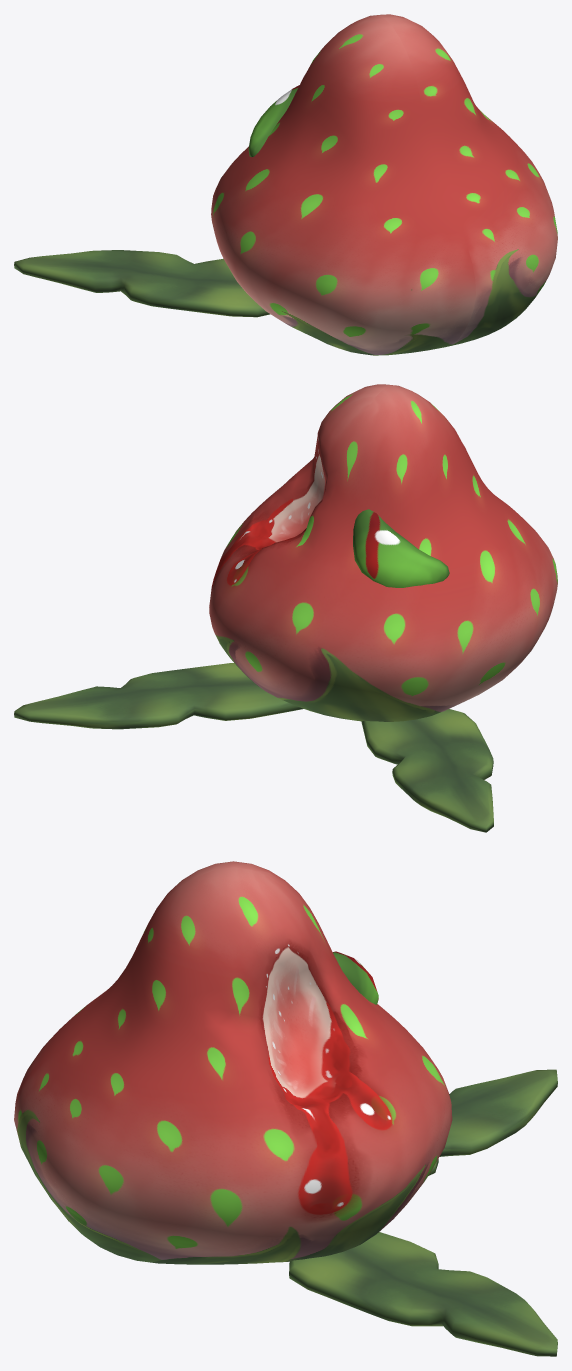
The model's file is strawberry.fbx.
3 renders of one model, top to bottom at view 1: azimuth 30°, elevation 25°; view 2: azimuth 150°, elevation 25°; view 3: azimuth 270°, elevation 25°, orthographic. The views are drawn at different scales.
Parts seen in each view (by area): view 1: StrawberryBody1; view 2: StrawberryBody1; view 3: StrawberryBody1.
Part boxes in pixels (x1=…): StrawberryBody1: x1=14, y1=14, x2=557, y2=355; StrawberryBody1: x1=14, y1=384, x2=557, y2=832; StrawberryBody1: x1=14, y1=861, x2=557, y2=1356.
Size of the model in its own units: 195 by 118 by 161.
1 material, 1 textured.
